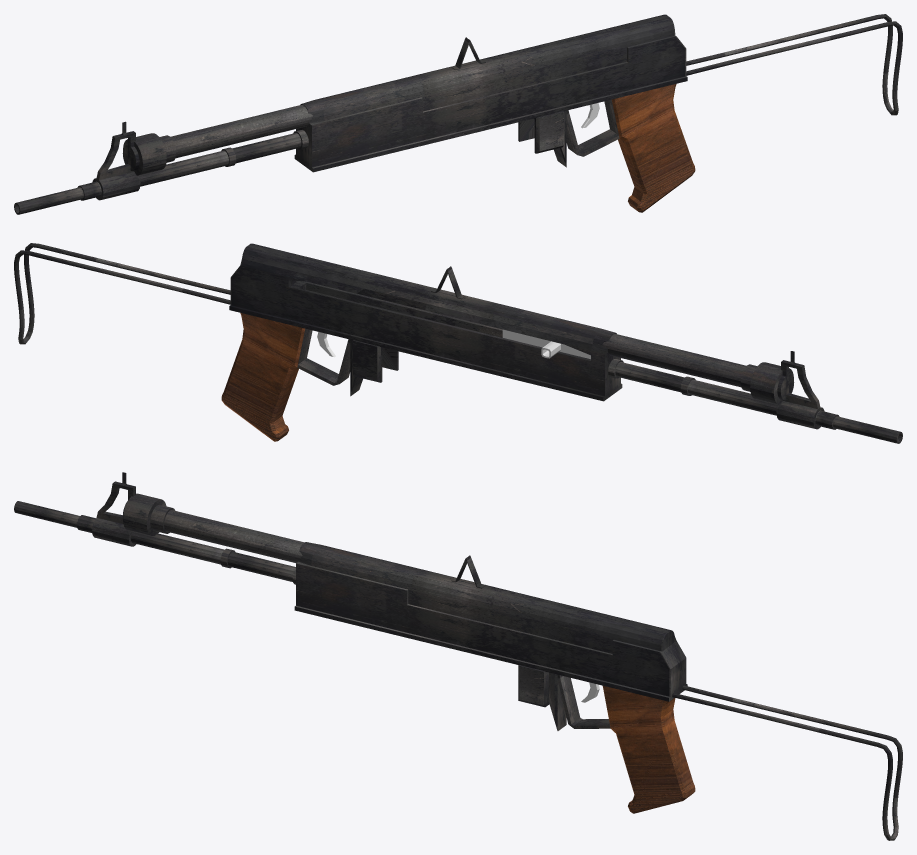
Rendered from apsRifle.fbx.
3 views of the same model, one above another, from view 1: azimuth 30°, elevation 25°; view 2: azimuth 150°, elevation 25°; view 3: azimuth 330°, elevation 25° (orthographic).
Visible parts, largest first — view 1: Cube, Cube.001, Cylinder, Cylinder.001, Cylinder.005, Cylinder.002, Cube.006; view 2: Cube, Cube.001, Cylinder, Cylinder.001, Cylinder.005, Cylinder.002, Cube.006, Cube.003; view 3: Cube, Cube.001, Cylinder, Cylinder.001, Cylinder.005, Cube.006, Cylinder.002.
Boxes of the visible parts, <box> form: Cube: <box>294,14,687,172</box>; Cube.001: <box>566,84,695,212</box>; Cylinder: <box>122,105,312,175</box>; Cylinder.001: <box>14,129,308,214</box>; Cylinder.005: <box>686,14,902,115</box>; Cylinder.002: <box>92,121,140,200</box>; Cube.006: <box>518,110,566,167</box>; Cube: <box>229,243,622,401</box>; Cube.001: <box>221,313,350,441</box>; Cylinder: <box>602,334,794,404</box>; Cylinder.001: <box>608,359,902,443</box>; Cylinder.005: <box>14,243,230,344</box>; Cylinder.002: <box>776,351,824,429</box>; Cube.006: <box>350,339,398,396</box>; Cube.003: <box>502,329,590,359</box>; Cube: <box>294,542,687,701</box>; Cube.001: <box>557,675,695,813</box>; Cylinder: <box>123,493,304,562</box>; Cylinder.001: <box>14,501,295,584</box>; Cylinder.005: <box>672,685,902,840</box>; Cube.006: <box>518,665,566,730</box>; Cylinder.002: <box>92,472,136,546</box>.
Size of the model in its own units: 243 by 55.9 by 12.56.
Materials: 3 (2 with a texture image).
